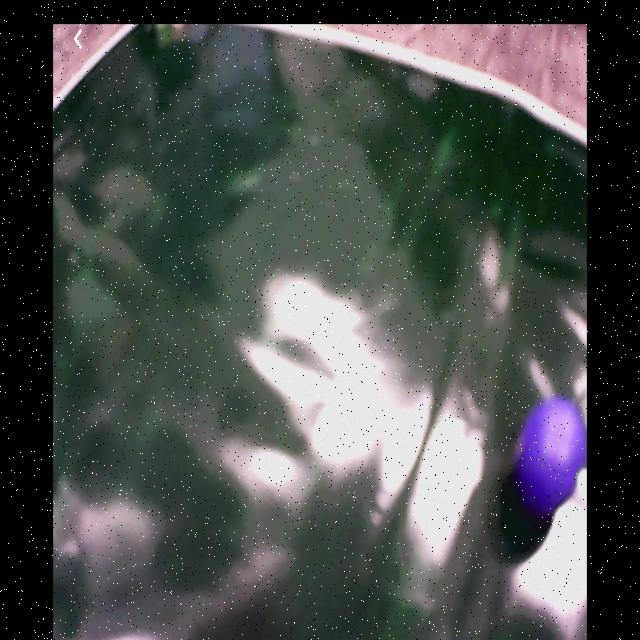ball: (517, 400, 586, 514)
